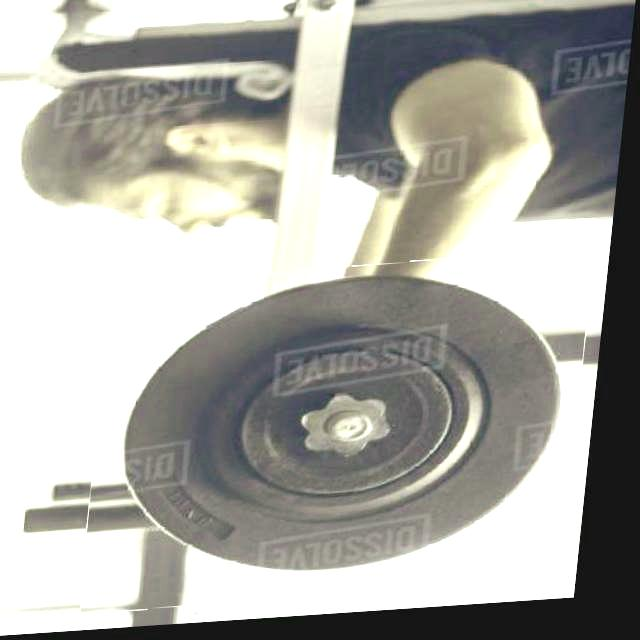barbell: (90, 257, 604, 615)
